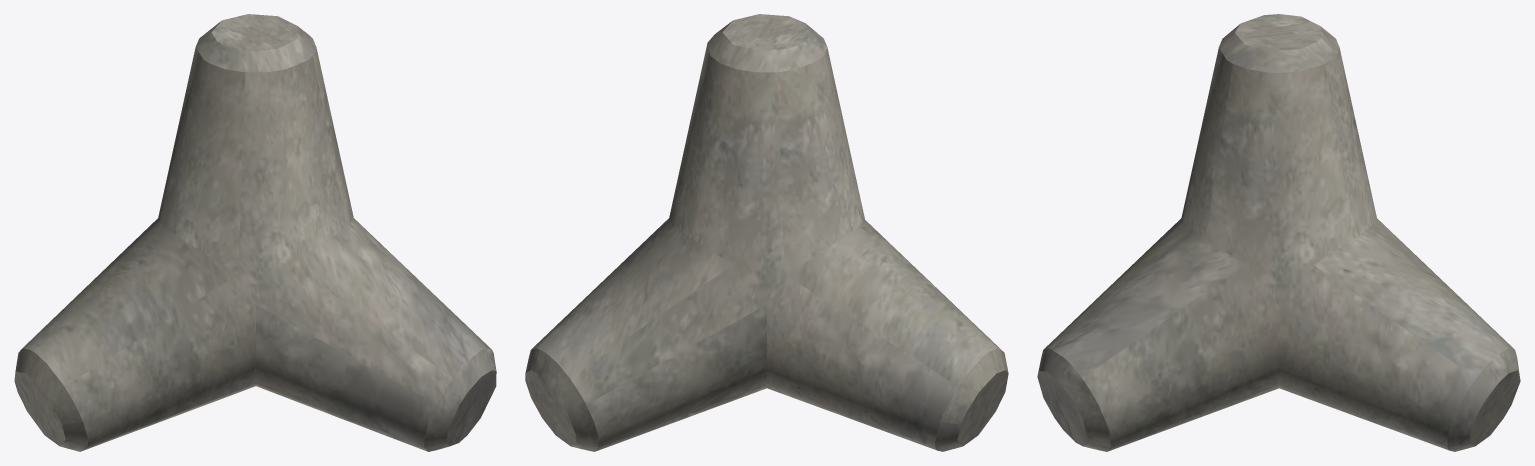
File: tetrapod.lod1.glb
3 renders of one model, left to right at view 1: azimuth 30°, elevation 25°; view 2: azimuth 150°, elevation 25°; view 3: azimuth 270°, elevation 25°, orthographic.
Parts seen in each view (by area): view 1: Cylinder03_01 - Default_0; view 2: Cylinder03_01 - Default_0; view 3: Cylinder03_01 - Default_0.
Part boxes in pixels (left/top/right/bottom): Cylinder03_01 - Default_0: left=14, top=14, right=496, bottom=451; Cylinder03_01 - Default_0: left=525, top=14, right=1008, bottom=451; Cylinder03_01 - Default_0: left=1037, top=14, right=1520, bottom=451.
Bounding box in the file's own units: 2.34 × 2.19 × 2.6.
Materials: 1 (1 with a texture image).
